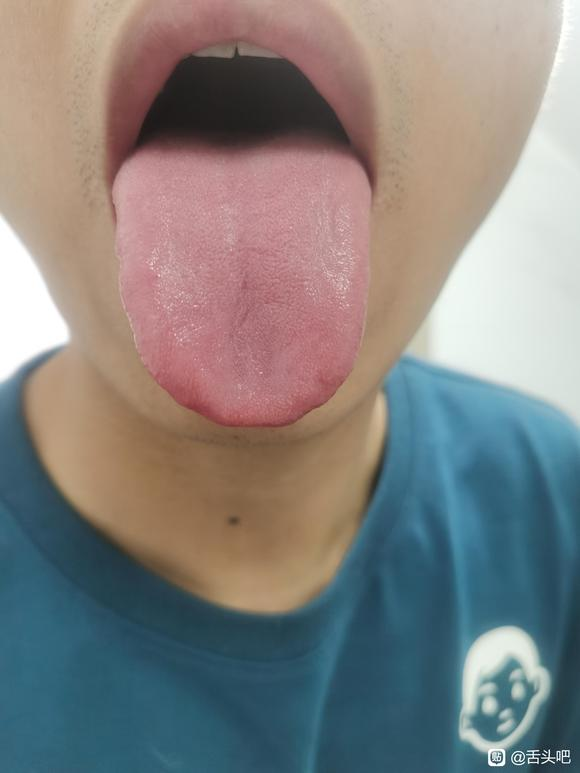baitaishe: (112, 113, 371, 428)
